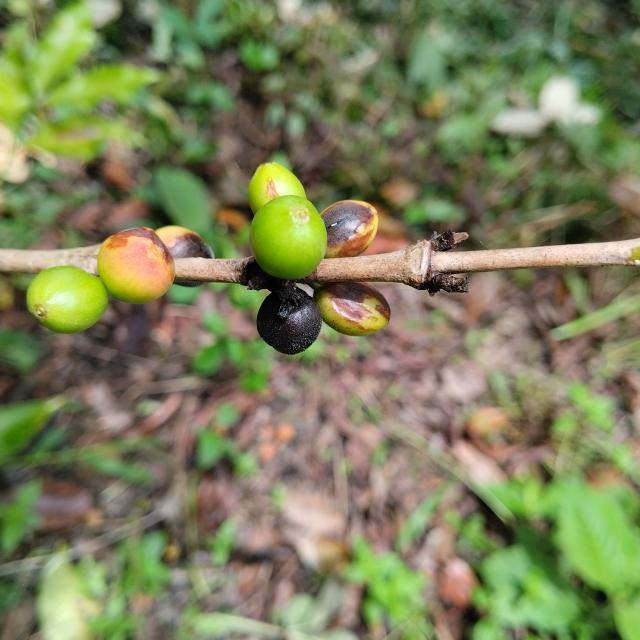green: (250, 195, 327, 280)
red: (256, 288, 322, 354), (313, 282, 391, 336), (321, 200, 379, 258), (155, 225, 214, 258), (175, 281, 203, 286)
yellow: (96, 227, 175, 304), (26, 266, 108, 334), (248, 162, 307, 213)
